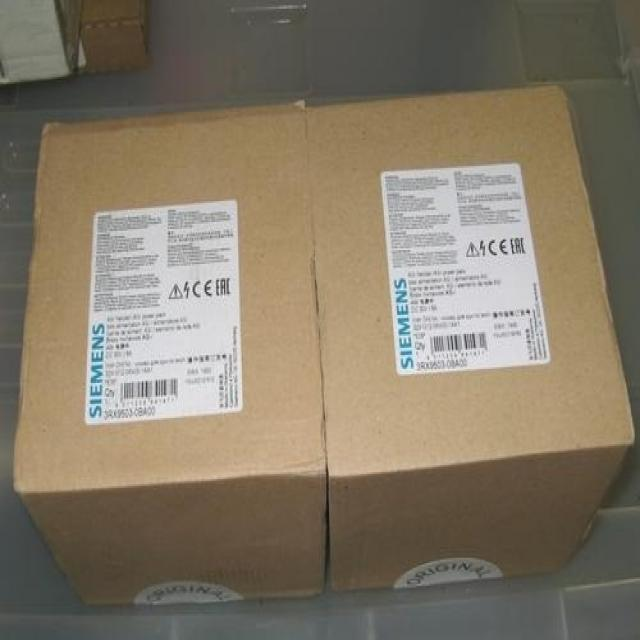box: (304, 84, 634, 589), (12, 103, 326, 606), (1, 0, 80, 86), (78, 1, 151, 75)
